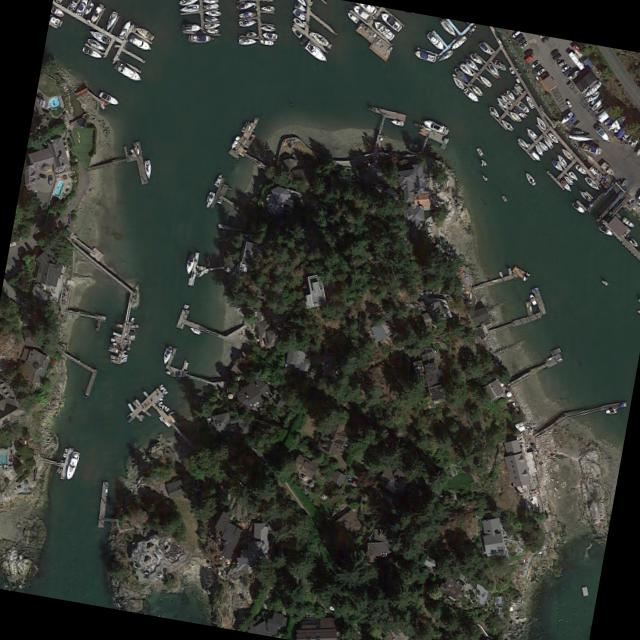large-vehicle: (567, 50, 583, 69), (620, 126, 633, 139)
ship: (298, 35, 328, 63), (115, 62, 142, 83), (370, 17, 394, 40), (63, 449, 80, 479), (378, 9, 401, 31), (421, 117, 449, 134), (127, 33, 151, 51), (424, 29, 444, 50), (308, 28, 329, 47), (350, 2, 371, 21), (87, 26, 109, 44), (438, 17, 457, 37), (582, 79, 601, 97), (85, 36, 106, 52), (88, 1, 104, 22), (133, 24, 154, 40), (448, 33, 467, 50), (412, 48, 435, 62), (80, 44, 101, 59), (452, 65, 469, 83), (98, 90, 118, 105), (104, 9, 118, 30), (117, 18, 131, 39), (462, 86, 479, 103), (608, 113, 626, 129), (594, 124, 610, 142), (580, 141, 602, 154), (582, 174, 599, 190), (457, 61, 473, 77), (463, 55, 479, 71), (436, 47, 453, 62), (449, 73, 464, 90), (599, 160, 615, 175), (160, 344, 172, 364), (493, 94, 508, 109), (468, 81, 483, 96), (477, 72, 492, 87), (522, 169, 536, 185), (590, 94, 604, 110), (596, 222, 612, 236), (467, 51, 483, 65), (533, 113, 546, 130), (184, 251, 194, 273), (549, 157, 563, 172), (477, 41, 492, 55), (584, 89, 599, 103), (614, 123, 627, 139), (203, 189, 214, 207), (499, 117, 513, 131), (559, 146, 573, 160), (486, 62, 500, 76), (492, 57, 506, 71), (540, 133, 553, 148), (554, 151, 567, 166), (487, 104, 500, 118), (507, 109, 521, 122), (523, 125, 537, 138), (559, 178, 572, 192), (498, 92, 512, 105), (559, 110, 572, 124), (570, 200, 584, 213), (620, 215, 634, 228), (577, 188, 591, 201), (289, 24, 302, 38), (291, 15, 305, 28), (291, 7, 305, 20), (82, 0, 94, 15), (74, 0, 86, 15), (177, 3, 199, 11), (187, 34, 212, 41), (528, 148, 541, 161), (464, 23, 477, 36), (566, 68, 579, 81), (345, 10, 358, 23), (523, 93, 534, 108), (237, 17, 255, 26), (234, 0, 254, 8), (511, 105, 524, 117), (515, 136, 528, 148), (561, 172, 573, 185), (573, 163, 586, 175), (229, 134, 240, 148), (142, 158, 150, 177), (546, 131, 558, 143), (536, 139, 548, 151), (202, 8, 220, 16), (237, 9, 255, 17), (180, 23, 199, 30), (236, 36, 255, 43), (504, 88, 515, 100), (566, 169, 578, 180), (611, 122, 622, 134), (293, 0, 305, 11), (628, 134, 638, 147), (239, 119, 249, 132), (261, 30, 277, 38), (213, 172, 222, 186), (512, 81, 523, 92), (627, 236, 638, 247), (67, 0, 78, 11), (533, 143, 543, 155), (258, 37, 273, 45), (259, 24, 275, 31), (203, 21, 219, 28), (527, 292, 536, 304), (188, 325, 200, 334), (177, 0, 198, 5), (259, 4, 274, 11), (510, 86, 520, 96), (520, 270, 529, 281), (389, 118, 403, 125), (475, 145, 483, 156), (203, 14, 217, 20), (626, 132, 634, 142), (202, 2, 217, 7), (529, 284, 538, 292), (604, 407, 616, 413), (634, 144, 640, 156), (244, 30, 256, 36), (61, 446, 67, 457), (599, 277, 607, 285), (479, 157, 486, 166), (512, 73, 519, 82), (507, 65, 514, 74), (499, 193, 506, 201), (374, 37, 381, 45), (204, 28, 218, 32), (297, 0, 306, 6), (480, 173, 487, 180), (157, 414, 164, 421), (614, 210, 620, 218), (385, 45, 391, 53), (128, 147, 134, 153), (160, 387, 166, 393), (54, 466, 59, 473), (56, 467, 61, 474), (326, 42, 331, 49), (201, 0, 217, 2), (635, 308, 640, 314), (159, 403, 164, 409), (164, 406, 169, 412), (129, 315, 134, 321), (184, 303, 189, 309), (157, 383, 162, 388), (162, 389, 167, 394), (587, 165, 592, 170), (588, 166, 593, 171), (591, 170, 596, 175), (182, 302, 186, 308), (636, 297, 640, 302), (157, 396, 162, 400), (163, 404, 167, 409), (159, 385, 163, 390), (590, 168, 594, 173), (157, 400, 162, 403), (157, 403, 161, 406)
small-vehicle: (561, 66, 572, 76), (512, 32, 522, 41), (523, 52, 533, 61), (551, 51, 560, 60), (516, 35, 525, 44), (518, 39, 527, 48), (523, 47, 532, 55), (559, 63, 568, 71), (532, 63, 541, 71), (549, 47, 557, 55), (530, 59, 538, 67), (556, 59, 565, 66), (536, 66, 543, 75), (37, 172, 46, 178), (565, 99, 571, 107), (47, 174, 51, 183)
